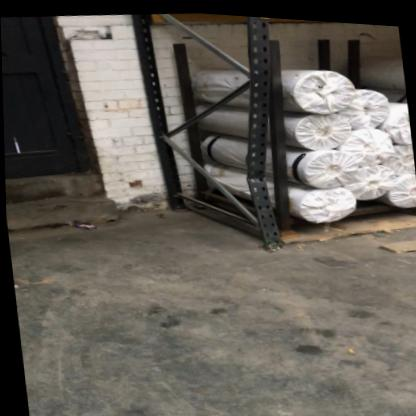vertical_damage: (243, 147, 287, 219)
